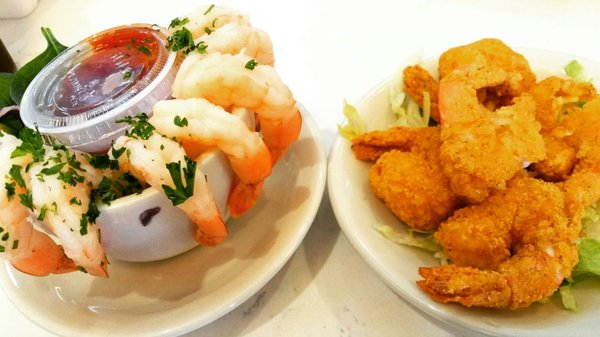sushi: (20, 25, 175, 140)
